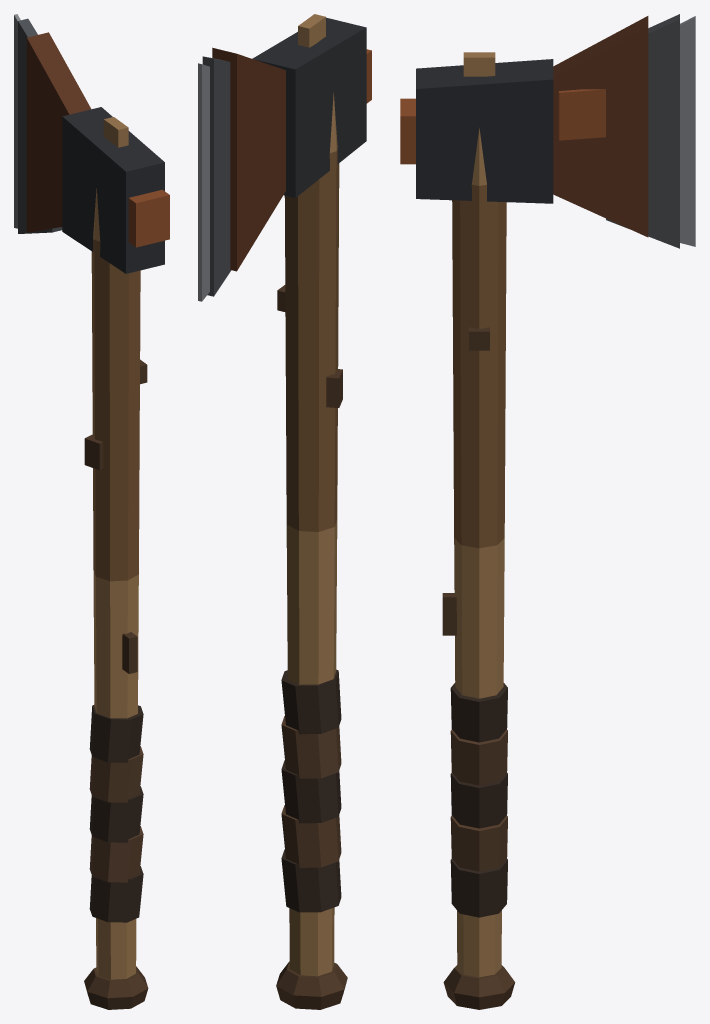
Rendered from melee_iron_axe.fbx.
3 renders of one model, left to right at view 1: azimuth 30°, elevation 25°; view 2: azimuth 150°, elevation 25°; view 3: azimuth 270°, elevation 25°, orthographic. The views are drawn at different scales.
Visible parts, largest first — view 1: melee_iron_axe; view 2: melee_iron_axe; view 3: melee_iron_axe.
Part boxes in pixels (x1,y1,x2,y2): melee_iron_axe: [14, 14, 169, 1009]; melee_iron_axe: [198, 14, 371, 1009]; melee_iron_axe: [400, 14, 695, 1009].
Bounding box in the file's own units: 0.068 × 1.02 × 0.28.
